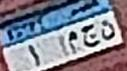1: (30, 38, 40, 71)
ج: (80, 16, 99, 48)
م: (68, 24, 79, 55)
ن: (102, 15, 114, 40)
